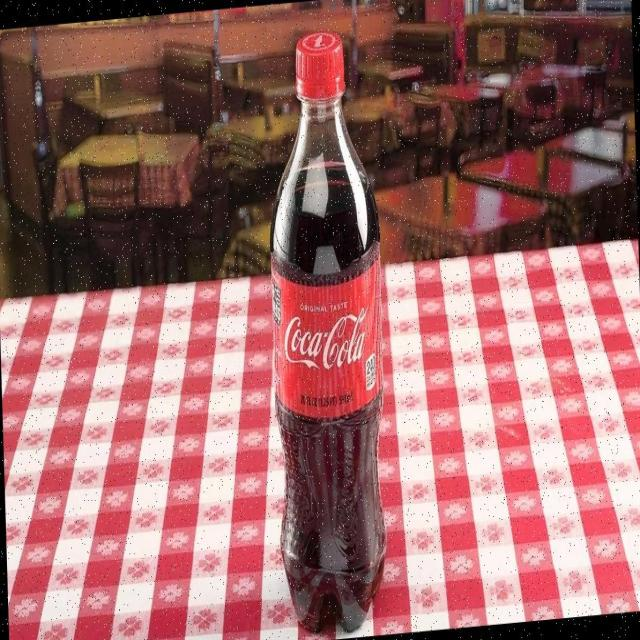coca-cola: (255, 23, 395, 636)
